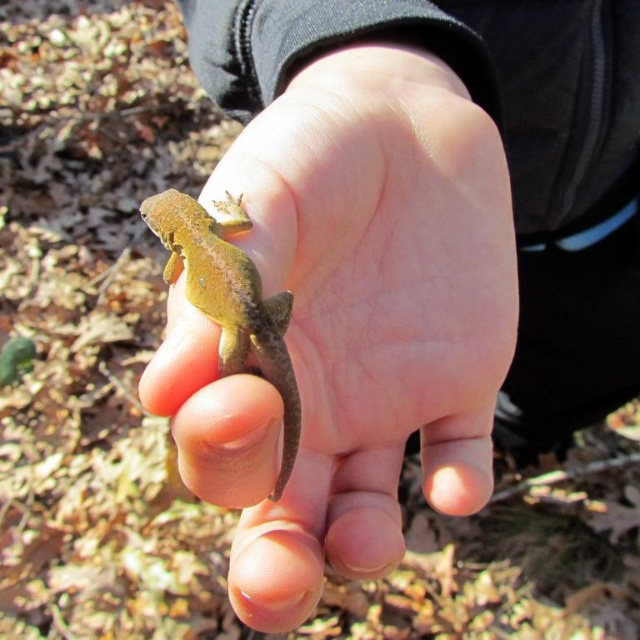Lizard: (137, 184, 324, 429)
